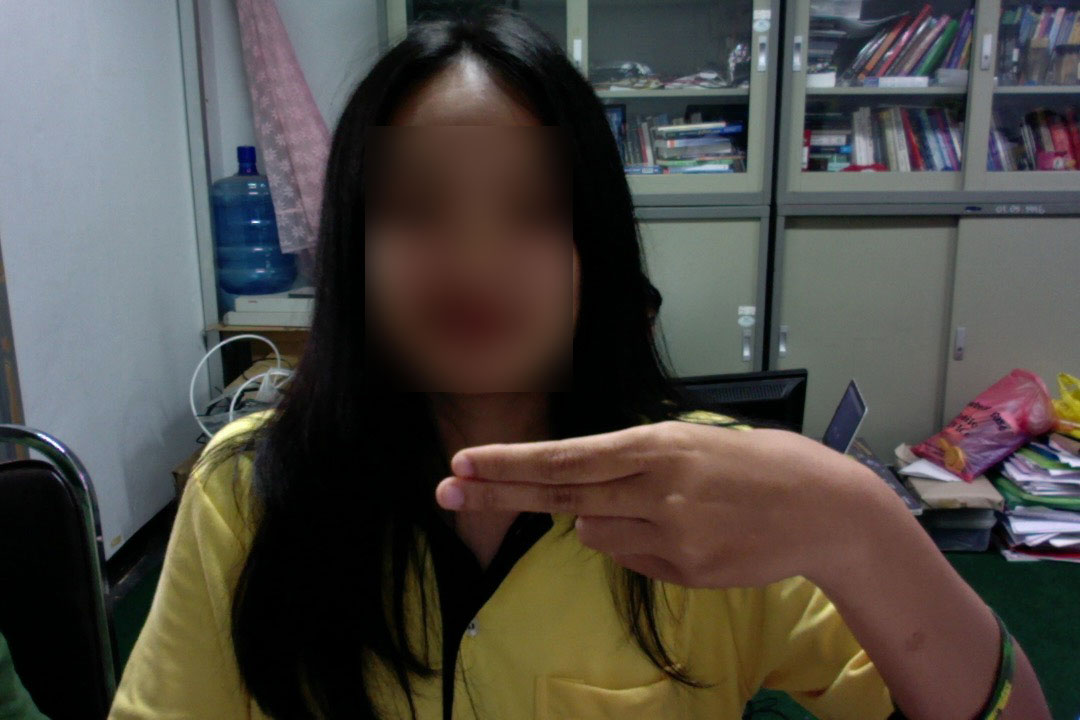hor: (422, 412, 911, 596)
